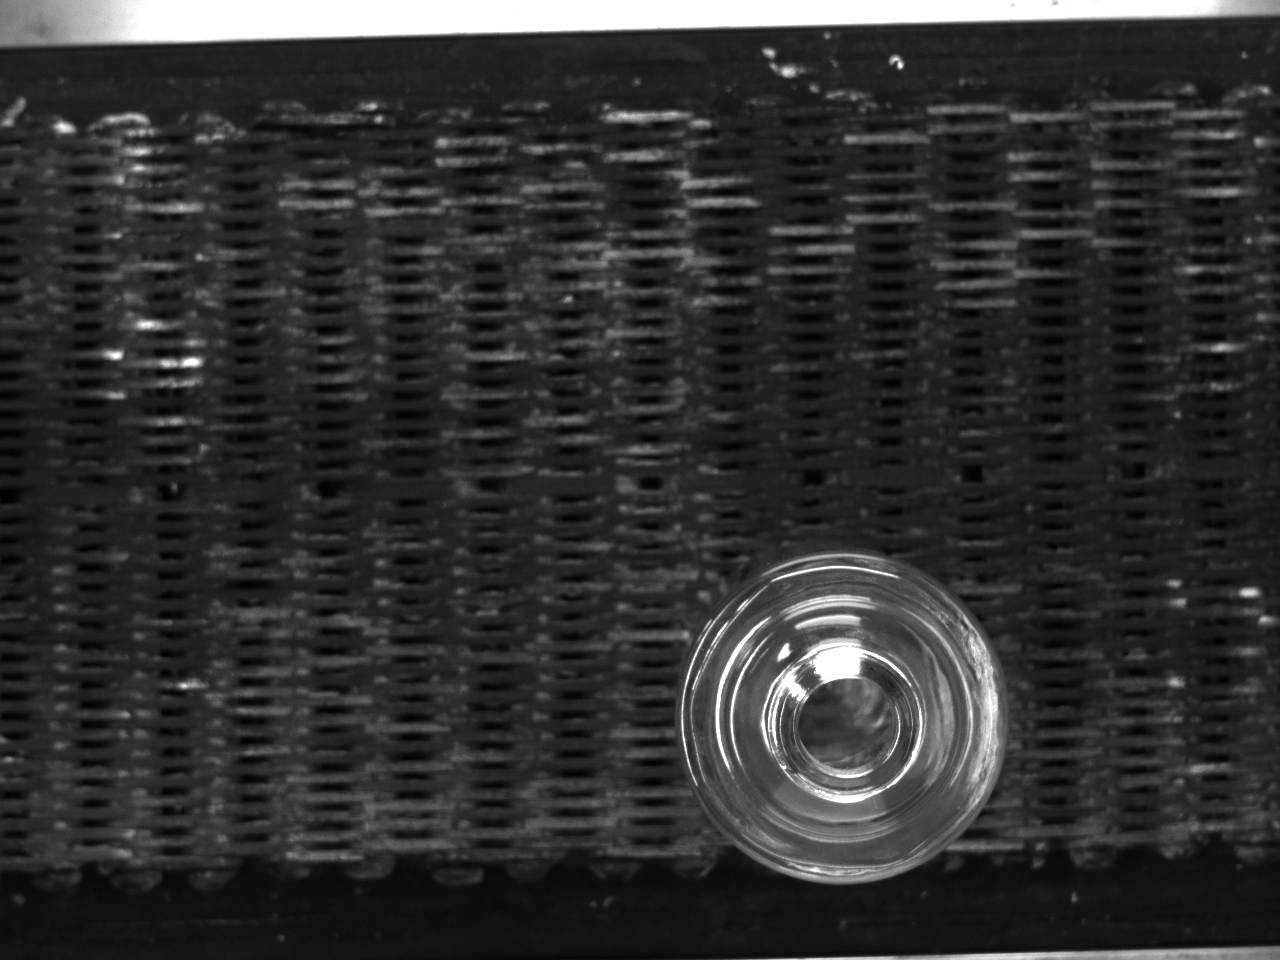bottleneck: (768, 646, 923, 803)
